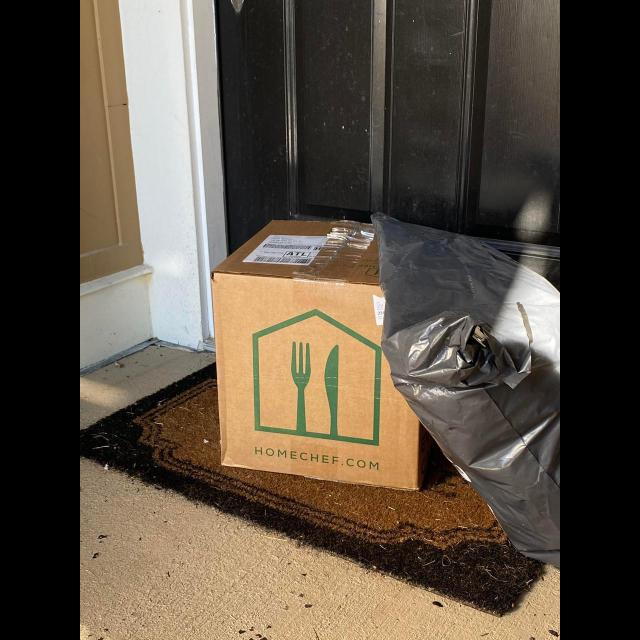papelão: (210, 217, 424, 493)
